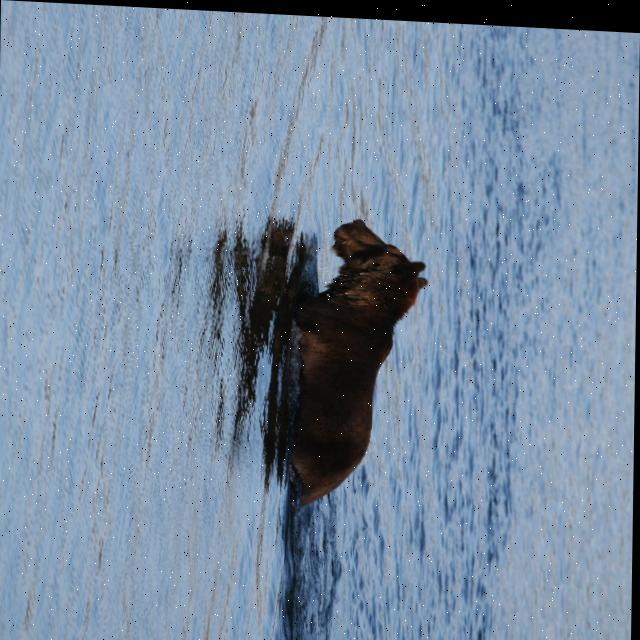bear face: (289, 211, 430, 504)
